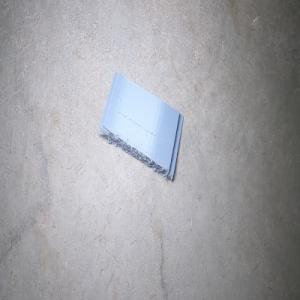PlasticPart: (98, 71, 183, 181)
